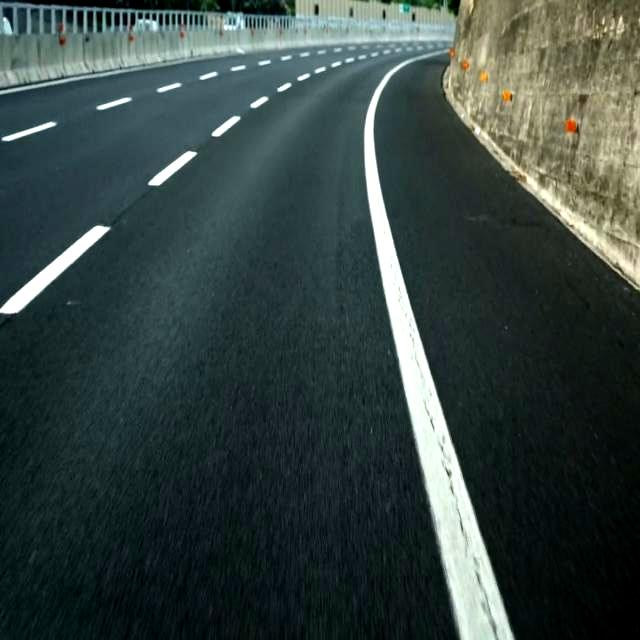lane: (364, 51, 514, 640), (0, 226, 110, 314), (149, 152, 198, 186), (1, 121, 56, 141), (211, 116, 241, 138)
road: (0, 51, 457, 639), (375, 56, 639, 639)
